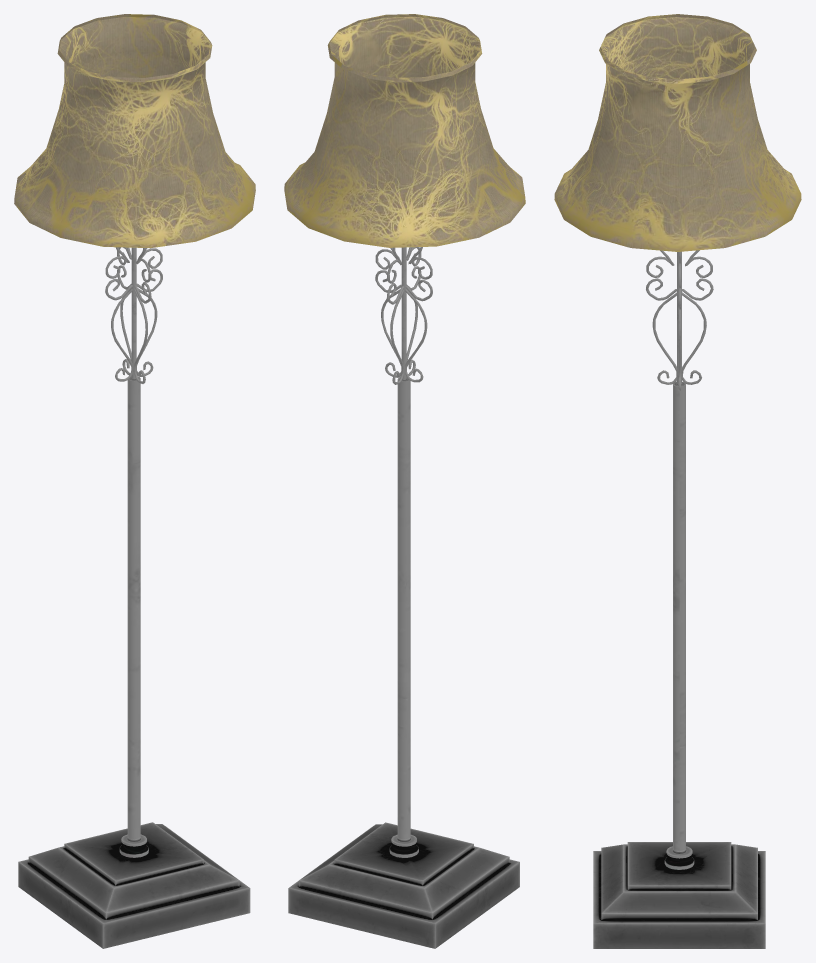
File: floor_lamp_bilgehan_korkmaz.glb
3 views of the same model, side by side, from view 1: azimuth 30°, elevation 25°; view 2: azimuth 150°, elevation 25°; view 3: azimuth 270°, elevation 25° (orthographic).
Parts seen in each view (by area): view 1: defaultMaterial; view 2: defaultMaterial; view 3: defaultMaterial.
Boxes of the visible parts, left/top/right/bottom form: defaultMaterial: left=14, top=14, right=255, bottom=948; defaultMaterial: left=284, top=14, right=525, bottom=948; defaultMaterial: left=554, top=14, right=801, bottom=948.
Bounding box in the file's own units: 0.5172 × 2 × 0.5172.
1 material, 1 textured.
